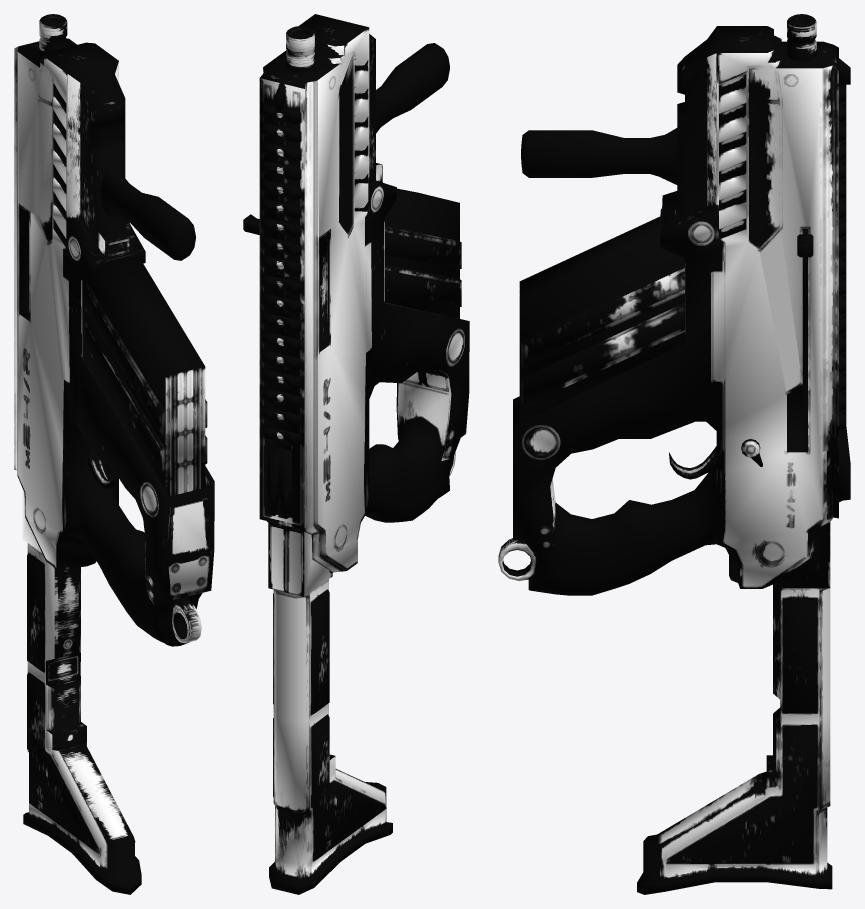
File: SMG (copy).dae
3 views of the same model, side by side, from view 1: azimuth 30°, elevation 25°; view 2: azimuth 150°, elevation 25°; view 3: azimuth 270°, elevation 25° (orthographic). The views are drawn at different scales.
Visible parts, largest first — view 1: SMG; view 2: SMG; view 3: SMG.
Boxes of the visible parts, x1,y1,x2,y2 form: SMG: (14,14,214,894); SMG: (243,14,469,894); SMG: (498,14,850,894).
Bounding box in the file's own units: 0.8116 × 3.06 × 8.37.
Materials: 1 (1 with a texture image).
